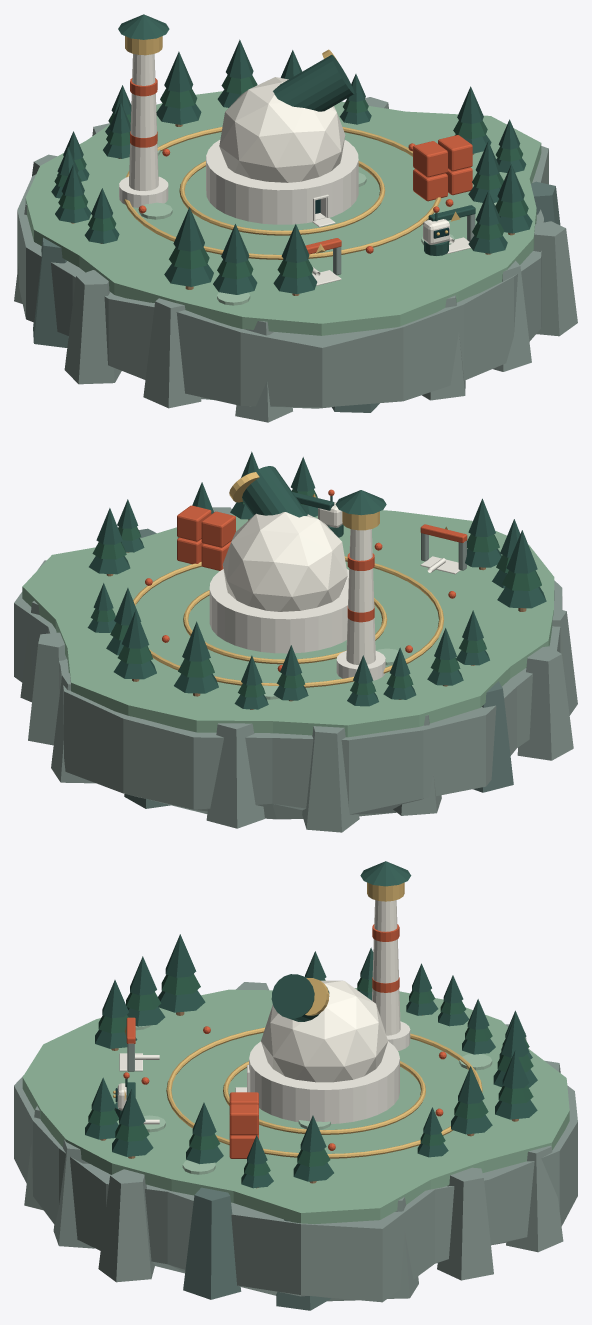
File: chapter-02.glb
3 views of the same model, one above another, from view 1: azimuth 30°, elevation 25°; view 2: azimuth 150°, elevation 25°; view 3: azimuth 270°, elevation 25° (orthographic).
Parts seen in each view (by area): view 1: terrain, rock_base, observatory_dome, observatory_base, cliff_facet_09, cliff_facet_15, cliff_facet_10, beacon, landmark_telescope, measuring_ring.001, cliff_facet_08, measuring_ring (+27 smaller); view 2: terrain, rock_base, observatory_dome, observatory_base, cliff_facet_09, cliff_facet_06, cliff_facet_05, beacon, cliff_facet_02, landmark_telescope, measuring_ring.001, cliff_facet_08 (+28 smaller); view 3: terrain, rock_base, observatory_dome, observatory_base, cliff_facet_15, cliff_facet_16, cliff_facet_02, cliff_facet_03, beacon, measuring_ring.001, cliff_facet_14, landmark_telescope (+20 smaller).
Part boxes in pixels (x1,y1,x2,y2): terrain: [25, 91, 541, 335]; rock_base: [17, 146, 548, 408]; observatory_dome: [219, 77, 345, 182]; observatory_base: [206, 139, 358, 224]; cliff_facet_09: [64, 270, 121, 384]; cliff_facet_15: [533, 221, 577, 336]; cliff_facet_10: [143, 298, 201, 408]; beacon: [129, 54, 158, 190]; landmark_telescope: [273, 55, 354, 111]; measuring_ring.001: [124, 126, 441, 259]; cliff_facet_08: [33, 237, 68, 347]; measuring_ring: [179, 161, 385, 235]; terrain: [22, 510, 554, 737]; rock_base: [14, 560, 562, 819]; observatory_dome: [222, 512, 347, 611]; observatory_base: [209, 569, 348, 653]; cliff_facet_09: [517, 646, 573, 760]; cliff_facet_06: [302, 726, 359, 832]; cliff_facet_05: [206, 723, 264, 828]; beacon: [346, 529, 375, 665]; cliff_facet_02: [28, 632, 66, 745]; landmark_telescope: [242, 466, 307, 517]; measuring_ring.001: [133, 556, 443, 687]; cliff_facet_08: [473, 681, 513, 792]; terrain: [22, 988, 569, 1224]; rock_base: [14, 1075, 577, 1302]; observatory_dome: [261, 980, 387, 1082]; observatory_base: [249, 1041, 399, 1123]; cliff_facet_15: [98, 1169, 154, 1282]; cliff_facet_16: [183, 1187, 241, 1299]; cliff_facet_02: [437, 1167, 493, 1280]; cliff_facet_03: [506, 1145, 563, 1252]; beacon: [372, 900, 400, 1035]; measuring_ring.001: [166, 1027, 482, 1158]; cliff_facet_14: [53, 1140, 94, 1248]; landmark_telescope: [271, 974, 329, 1021].
Bounding box in the file's own units: 12.14 × 6.91 × 11.96.
